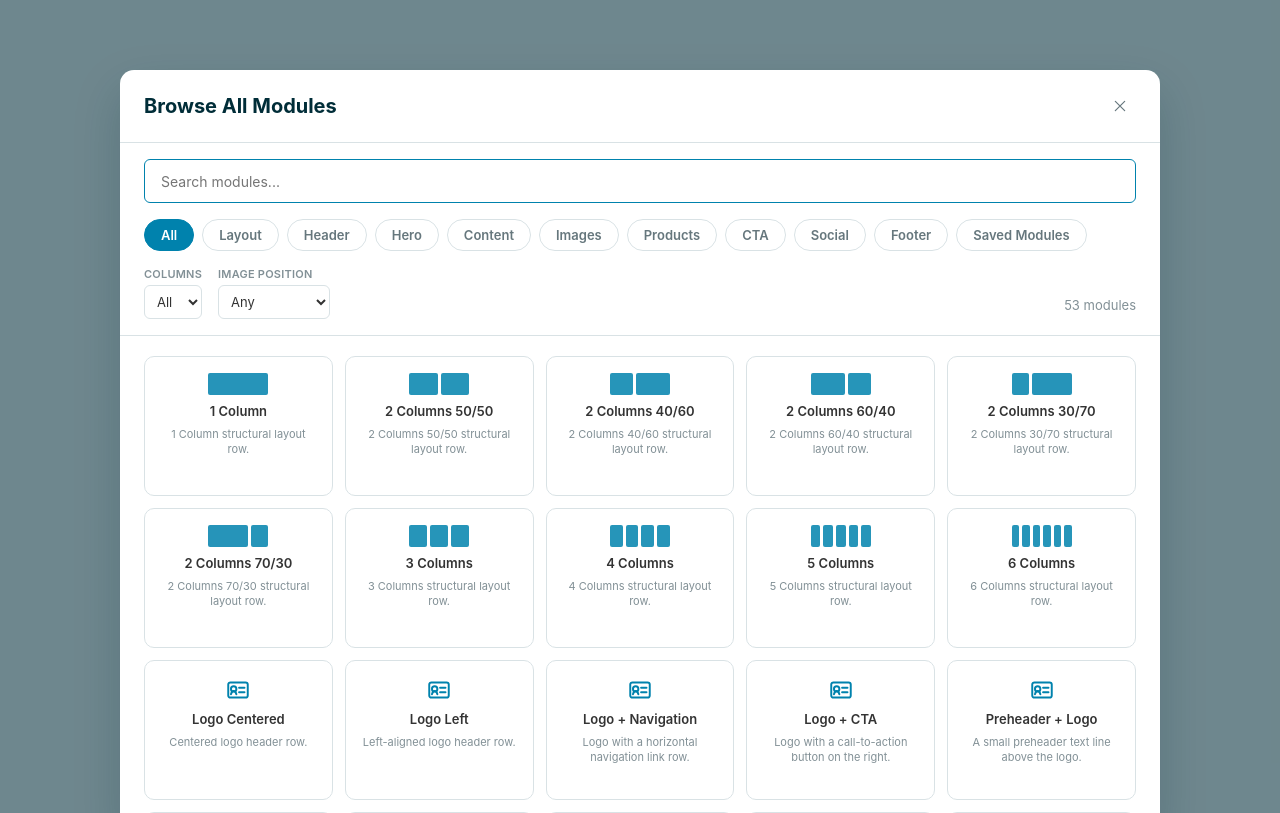
Scenario: ModuleLibraryModal › shows a zero-results empty state and a working clear-filters action
Type "this matches nothing at all" into the search field at (640, 181), box [144,159,1136,203]
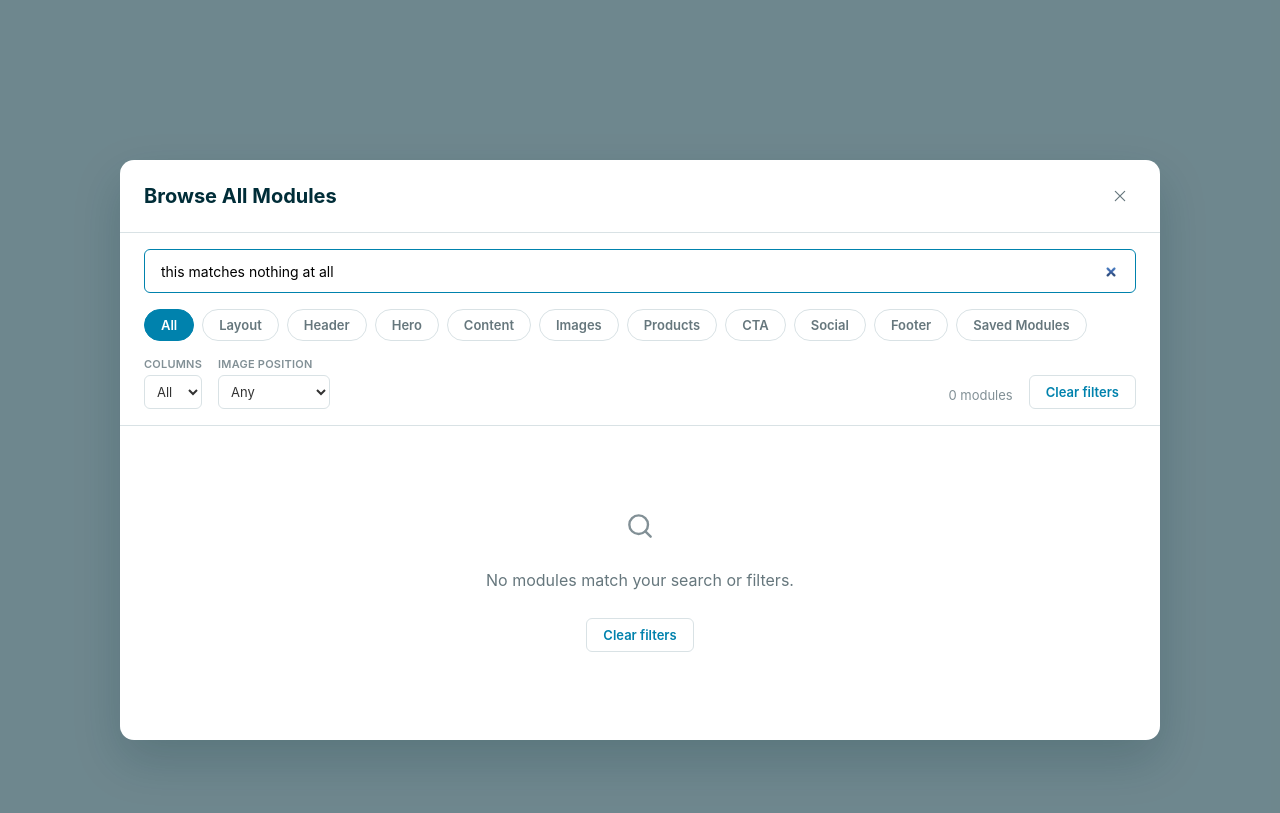
Check: the text "No modules match your search or filters." is shown, box [486,570,794,590]
Click the button "Clear filters" below "No modules match your search or filters." at (640, 635), box [586,618,694,652]
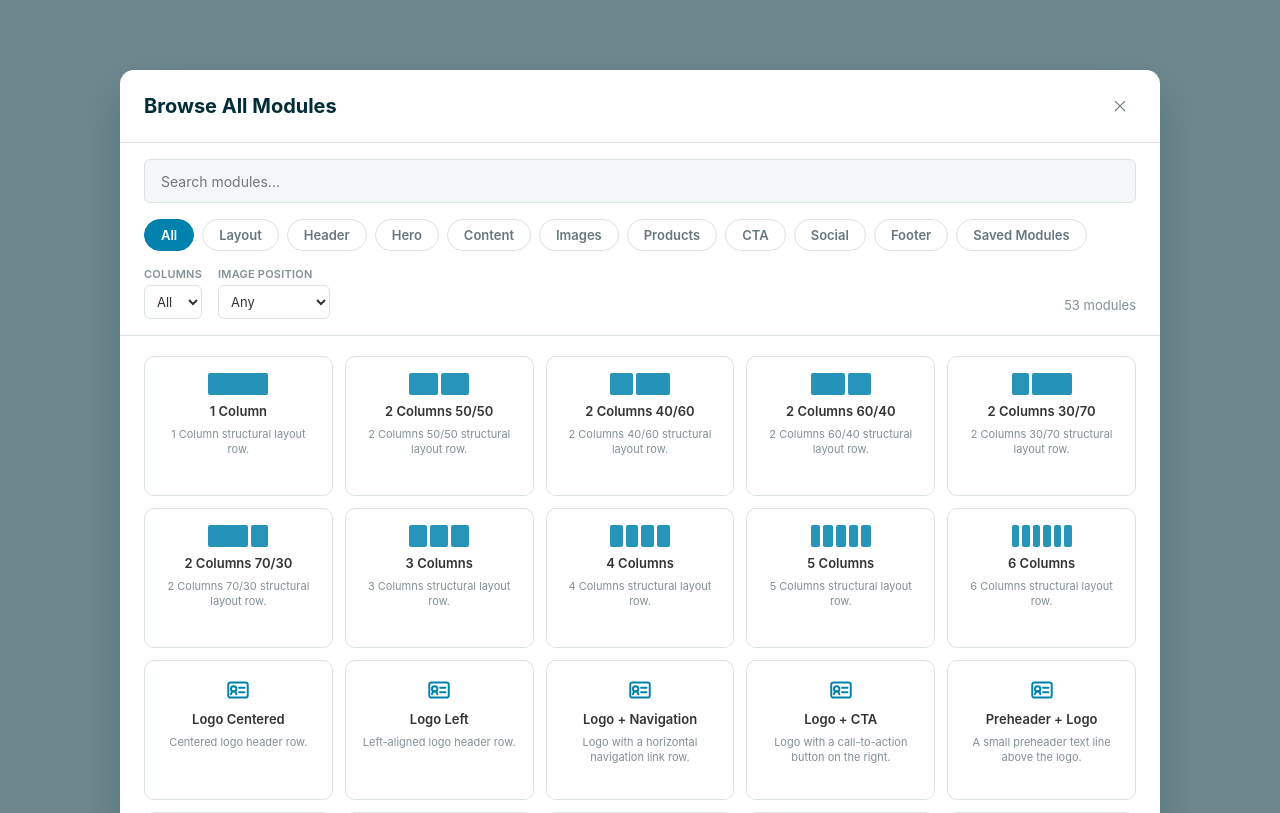
Check: the search field is empty, box [144,159,1136,203]
Check: the button with aria-label "Add 1 Column" is shown, box [144,356,333,496]
